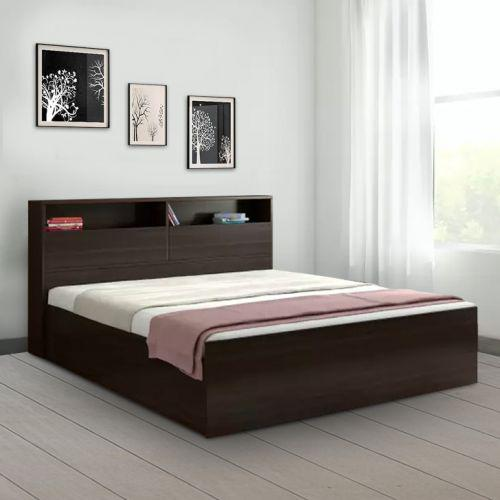bed: (17, 189, 492, 445)
